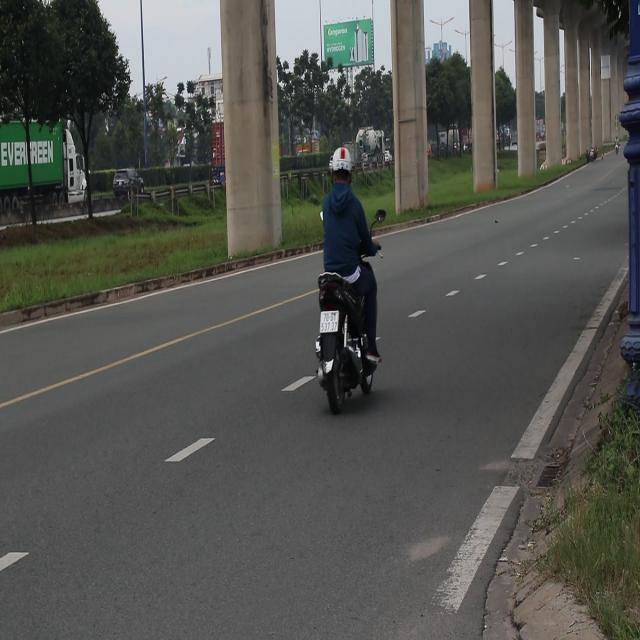car: (114, 170, 146, 200)
motorbike: (311, 270, 380, 414)
truck: (0, 118, 89, 218), (208, 113, 274, 185), (341, 138, 365, 168)
